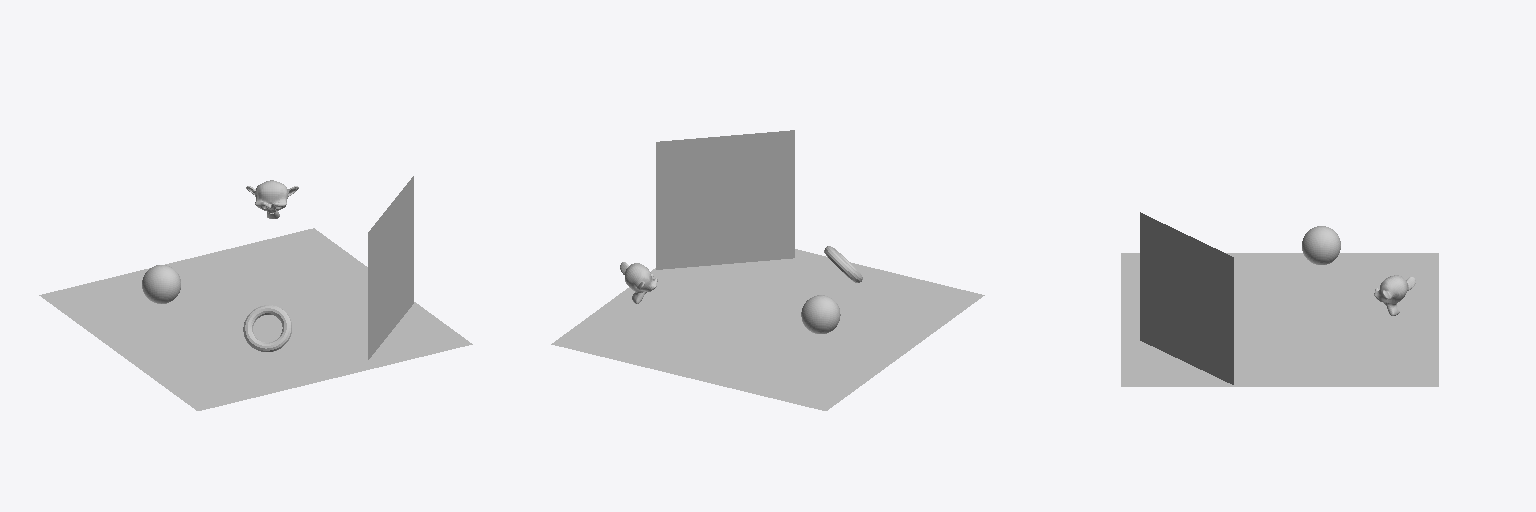
File: test_platform10.obj
3 views of the same model, side by side, from view 1: azimuth 30°, elevation 25°; view 2: azimuth 150°, elevation 25°; view 3: azimuth 270°, elevation 25° (orthographic).
Visible parts, largest first — view 1: Plane_Plane.001; view 2: Plane_Plane.001; view 3: Plane_Plane.001.
Boxes of the visible parts, x1,y1,x2,y2 form: Plane_Plane.001: [39, 176, 472, 410]; Plane_Plane.001: [551, 130, 984, 410]; Plane_Plane.001: [1121, 212, 1438, 386].
Bounding box in the file's own units: 16.04 × 7.17 × 16.04.